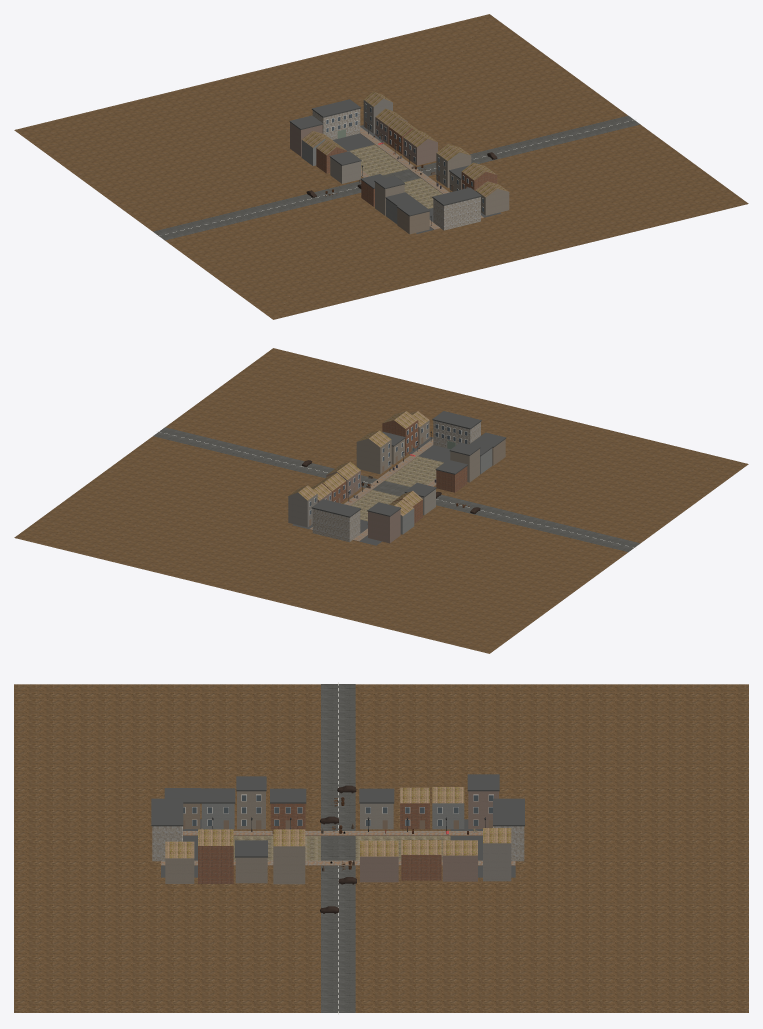
Rendered from lugar-prueba.glb.
3 views of the same model, one above another, from view 1: azimuth 30°, elevation 25°; view 2: azimuth 150°, elevation 25°; view 3: azimuth 270°, elevation 25° (orthographic). The views are drawn at different scales.
Parts seen in each view (by area): view 1: lugar-prueba; view 2: lugar-prueba; view 3: lugar-prueba.
Part boxes in pixels (x1=…): lugar-prueba: x1=14, y1=14, x2=748, y2=319; lugar-prueba: x1=14, y1=348, x2=748, y2=653; lugar-prueba: x1=14, y1=682, x2=748, y2=1014.
Bounding box in the file's own units: 182 × 12 × 170.
Materials: 44 (39 with a texture image).
